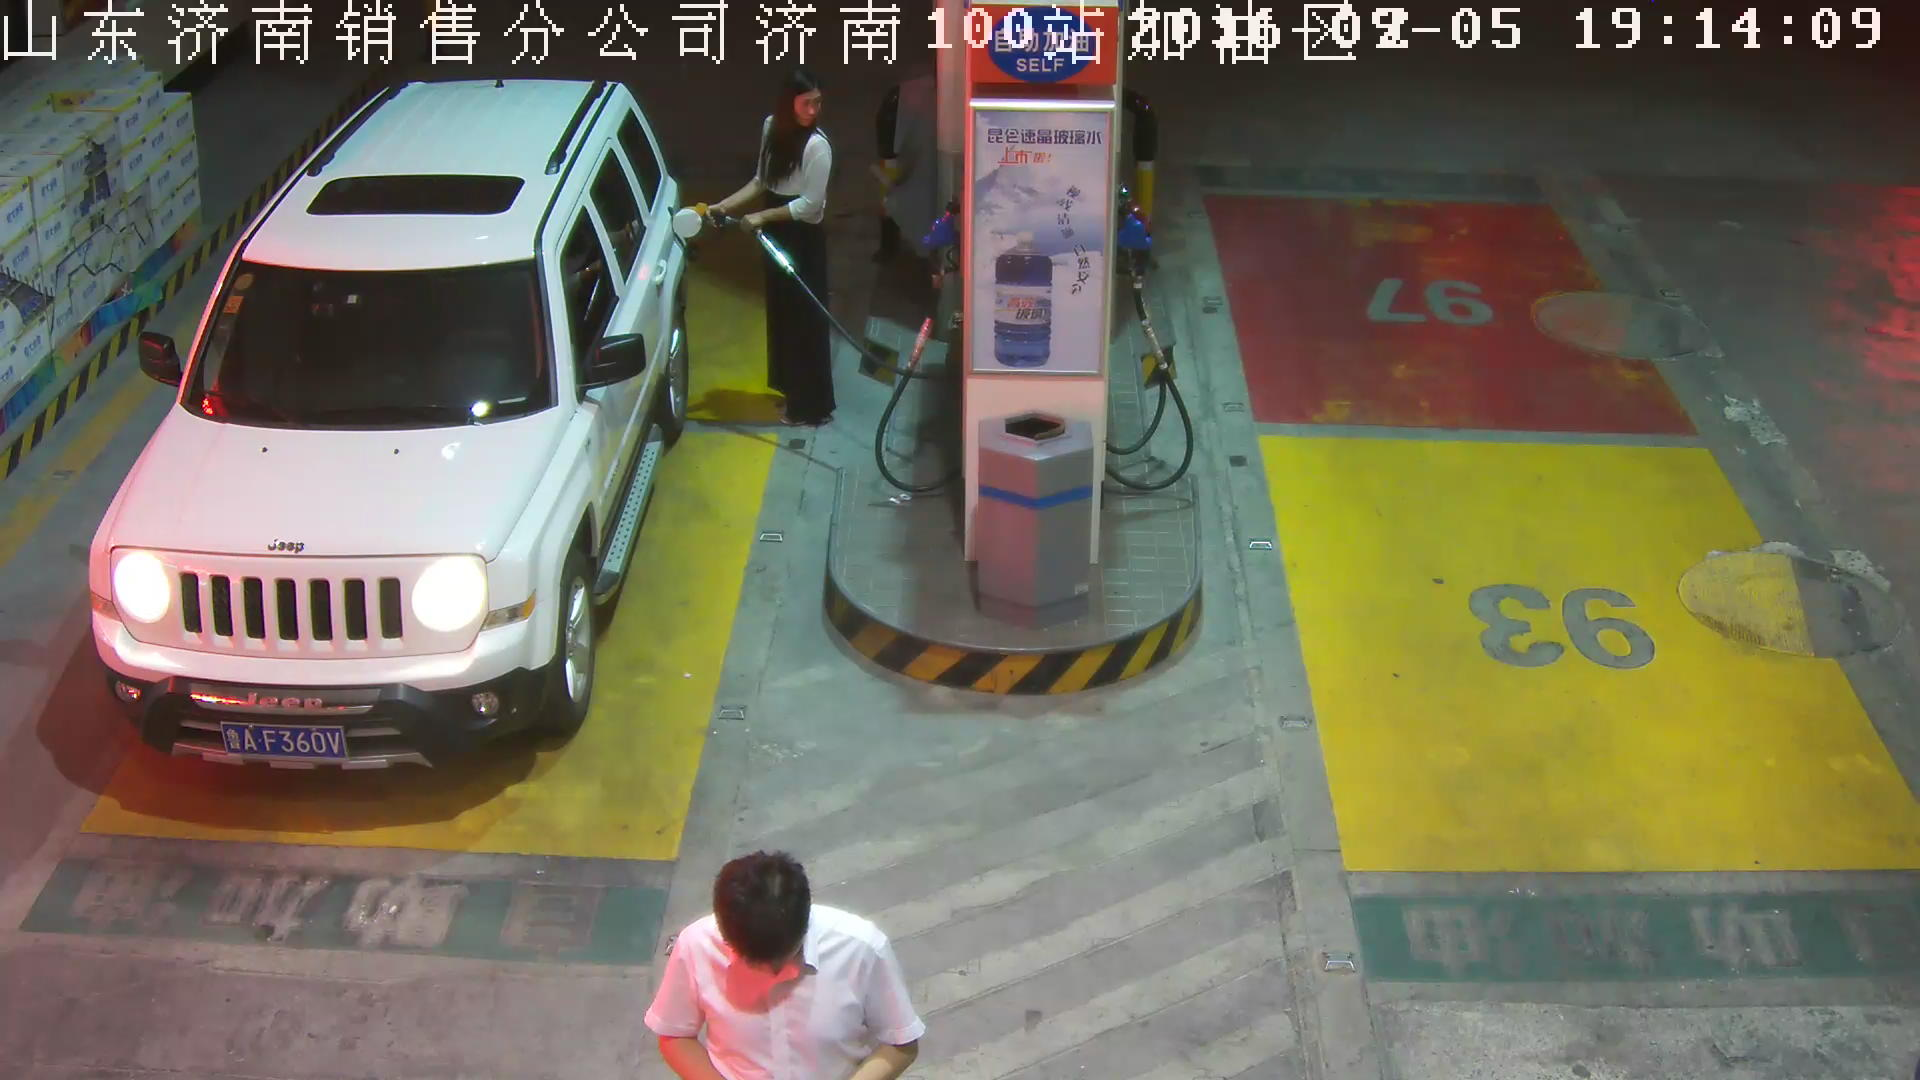blue: (218, 723, 351, 765)
